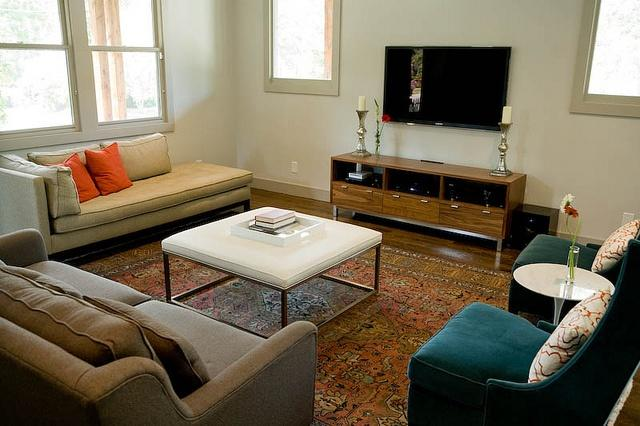AIO PC-Monitor-TV: (380, 44, 512, 131)
Meja: (159, 204, 383, 296)
